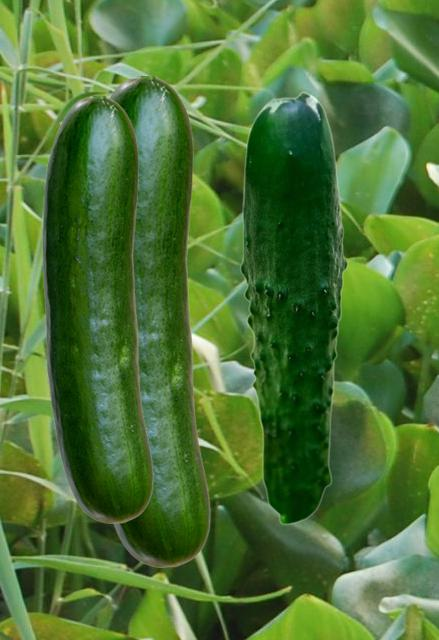cucumber: (108, 76, 209, 566), (42, 96, 152, 522), (239, 91, 347, 524)
